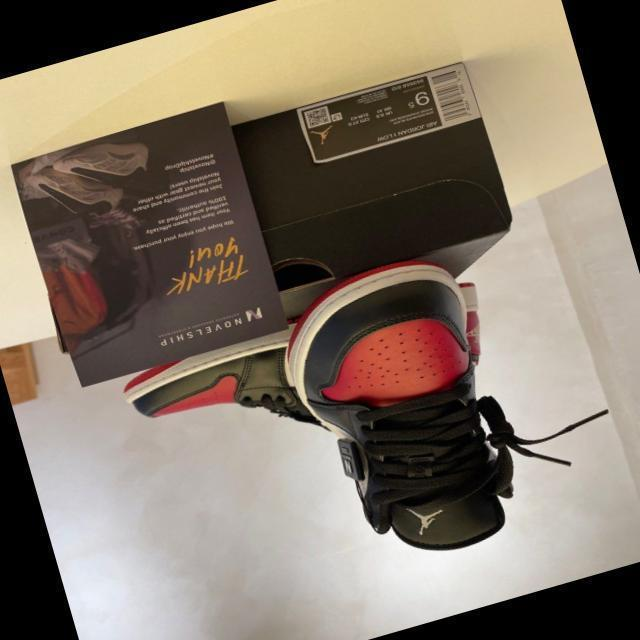nike original jordan 1: (256, 245, 544, 589), (105, 266, 501, 476)
